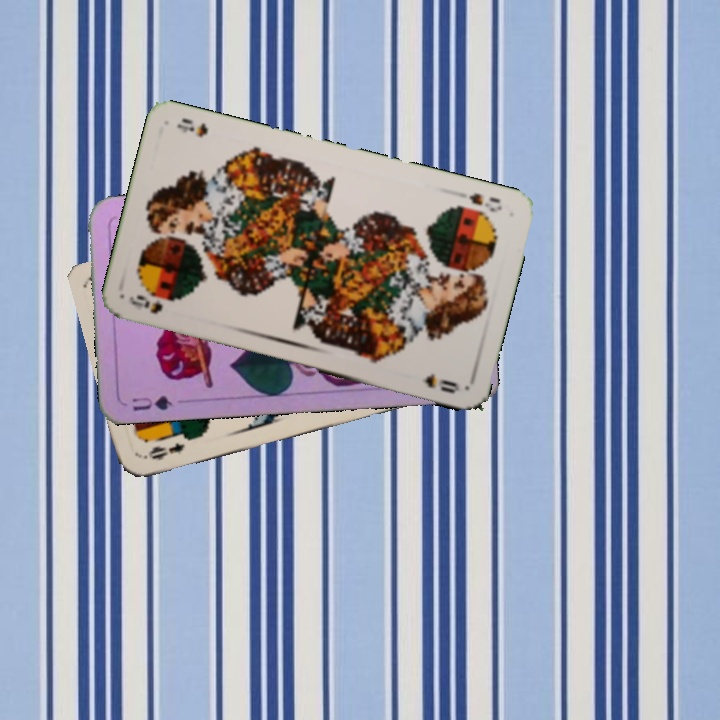EO: (139, 438, 187, 463)
GU: (128, 391, 175, 414)
SO: (125, 291, 166, 317), (465, 189, 505, 215)
